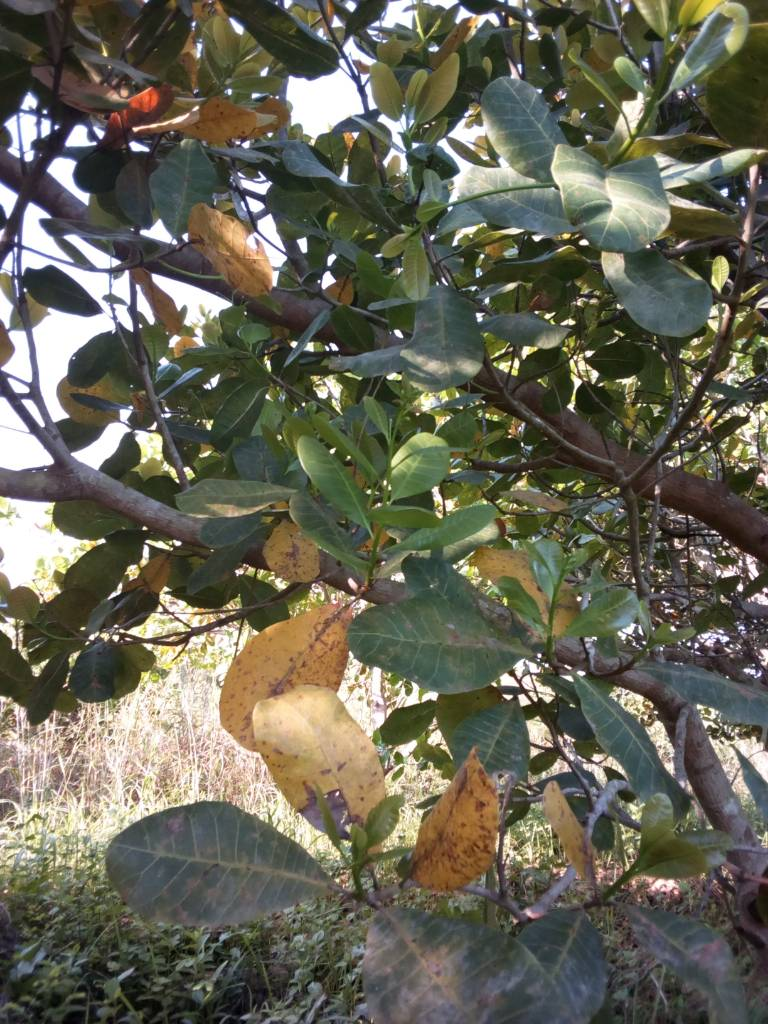Pestalotiose: (225, 602, 344, 744), (411, 758, 499, 878)
